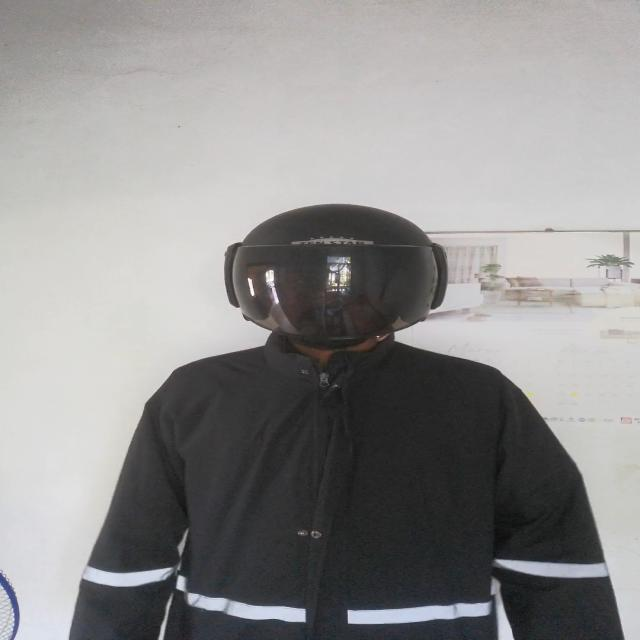Helmet_Wearer: (219, 198, 456, 361)
Jacket_Wearer: (64, 315, 625, 640)
Person: (77, 205, 622, 640)
